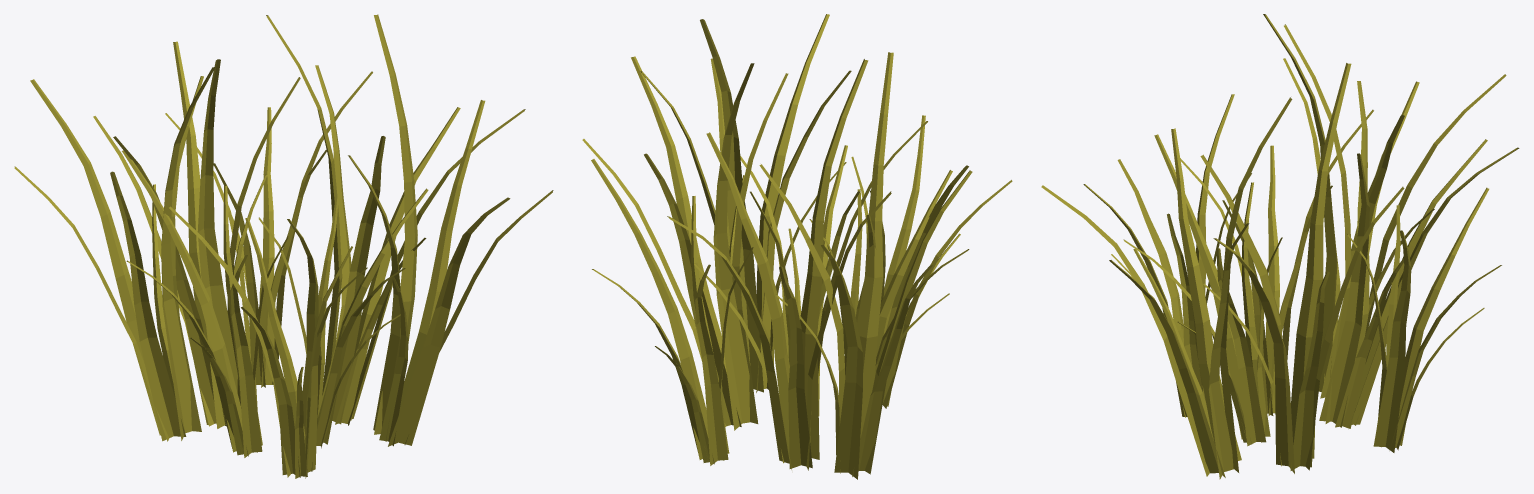
File: grass_short.glb
3 views of the same model, side by side, from view 1: azimuth 30°, elevation 25°; view 2: azimuth 150°, elevation 25°; view 3: azimuth 270°, elevation 25° (orthographic). The views are drawn at different scales.
Visible parts, largest first — view 1: Grass.005, Grass.007, Grass.003, Grass.001, Grass.002, Grass.006, Grass.004, Grass.008; view 2: Grass.007, Grass.003, Grass.001, Grass.005, Grass.008, Grass.006, Grass.004, Grass.002; view 3: Grass.001, Grass.005, Grass.003, Grass.008, Grass.004, Grass.007, Grass.006, Grass.002.
Part boxes in pixels (x1,y1,x2,y2): Grass.005: (348, 14, 553, 446); Grass.007: (14, 67, 215, 441); Grass.003: (93, 41, 300, 428); Grass.001: (266, 15, 525, 425); Grass.002: (122, 150, 288, 457); Grass.006: (169, 206, 367, 478); Grass.004: (258, 188, 428, 448); Grass.008: (165, 71, 372, 387); Grass.007: (759, 52, 972, 479); Grass.003: (667, 59, 891, 470); Grass.001: (582, 56, 788, 430); Grass.005: (640, 14, 851, 392); Grass.008: (591, 159, 753, 465); Grass.006: (851, 115, 1012, 408); Grass.004: (740, 121, 927, 415); Grass.002: (809, 170, 969, 376); Grass.001: (1200, 63, 1404, 473); Grass.005: (1041, 97, 1292, 479); Grass.003: (1284, 24, 1519, 428); Grass.008: (1347, 187, 1501, 452); Grass.004: (1123, 134, 1282, 446); Grass.007: (1263, 14, 1506, 398); Grass.006: (1083, 94, 1251, 417); Grass.002: (1180, 109, 1373, 415).
Size of the model in its own units: 2.77 by 2.59 by 2.91.
